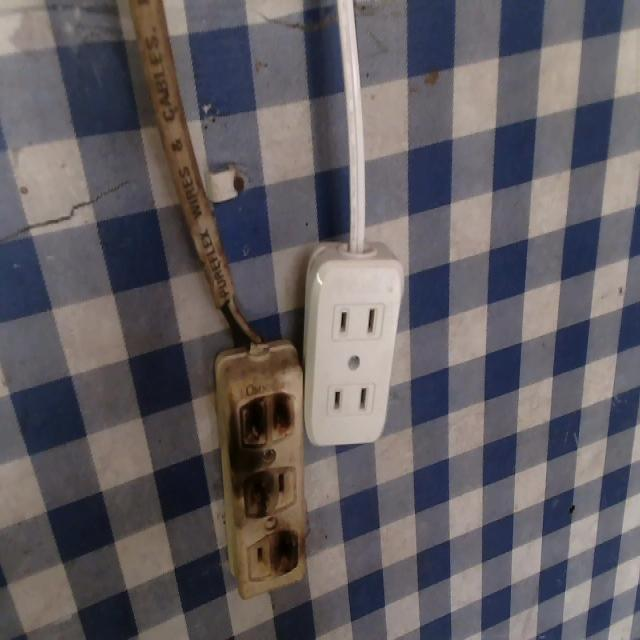-: (224, 386, 309, 454), (235, 464, 277, 519), (264, 521, 297, 583)
